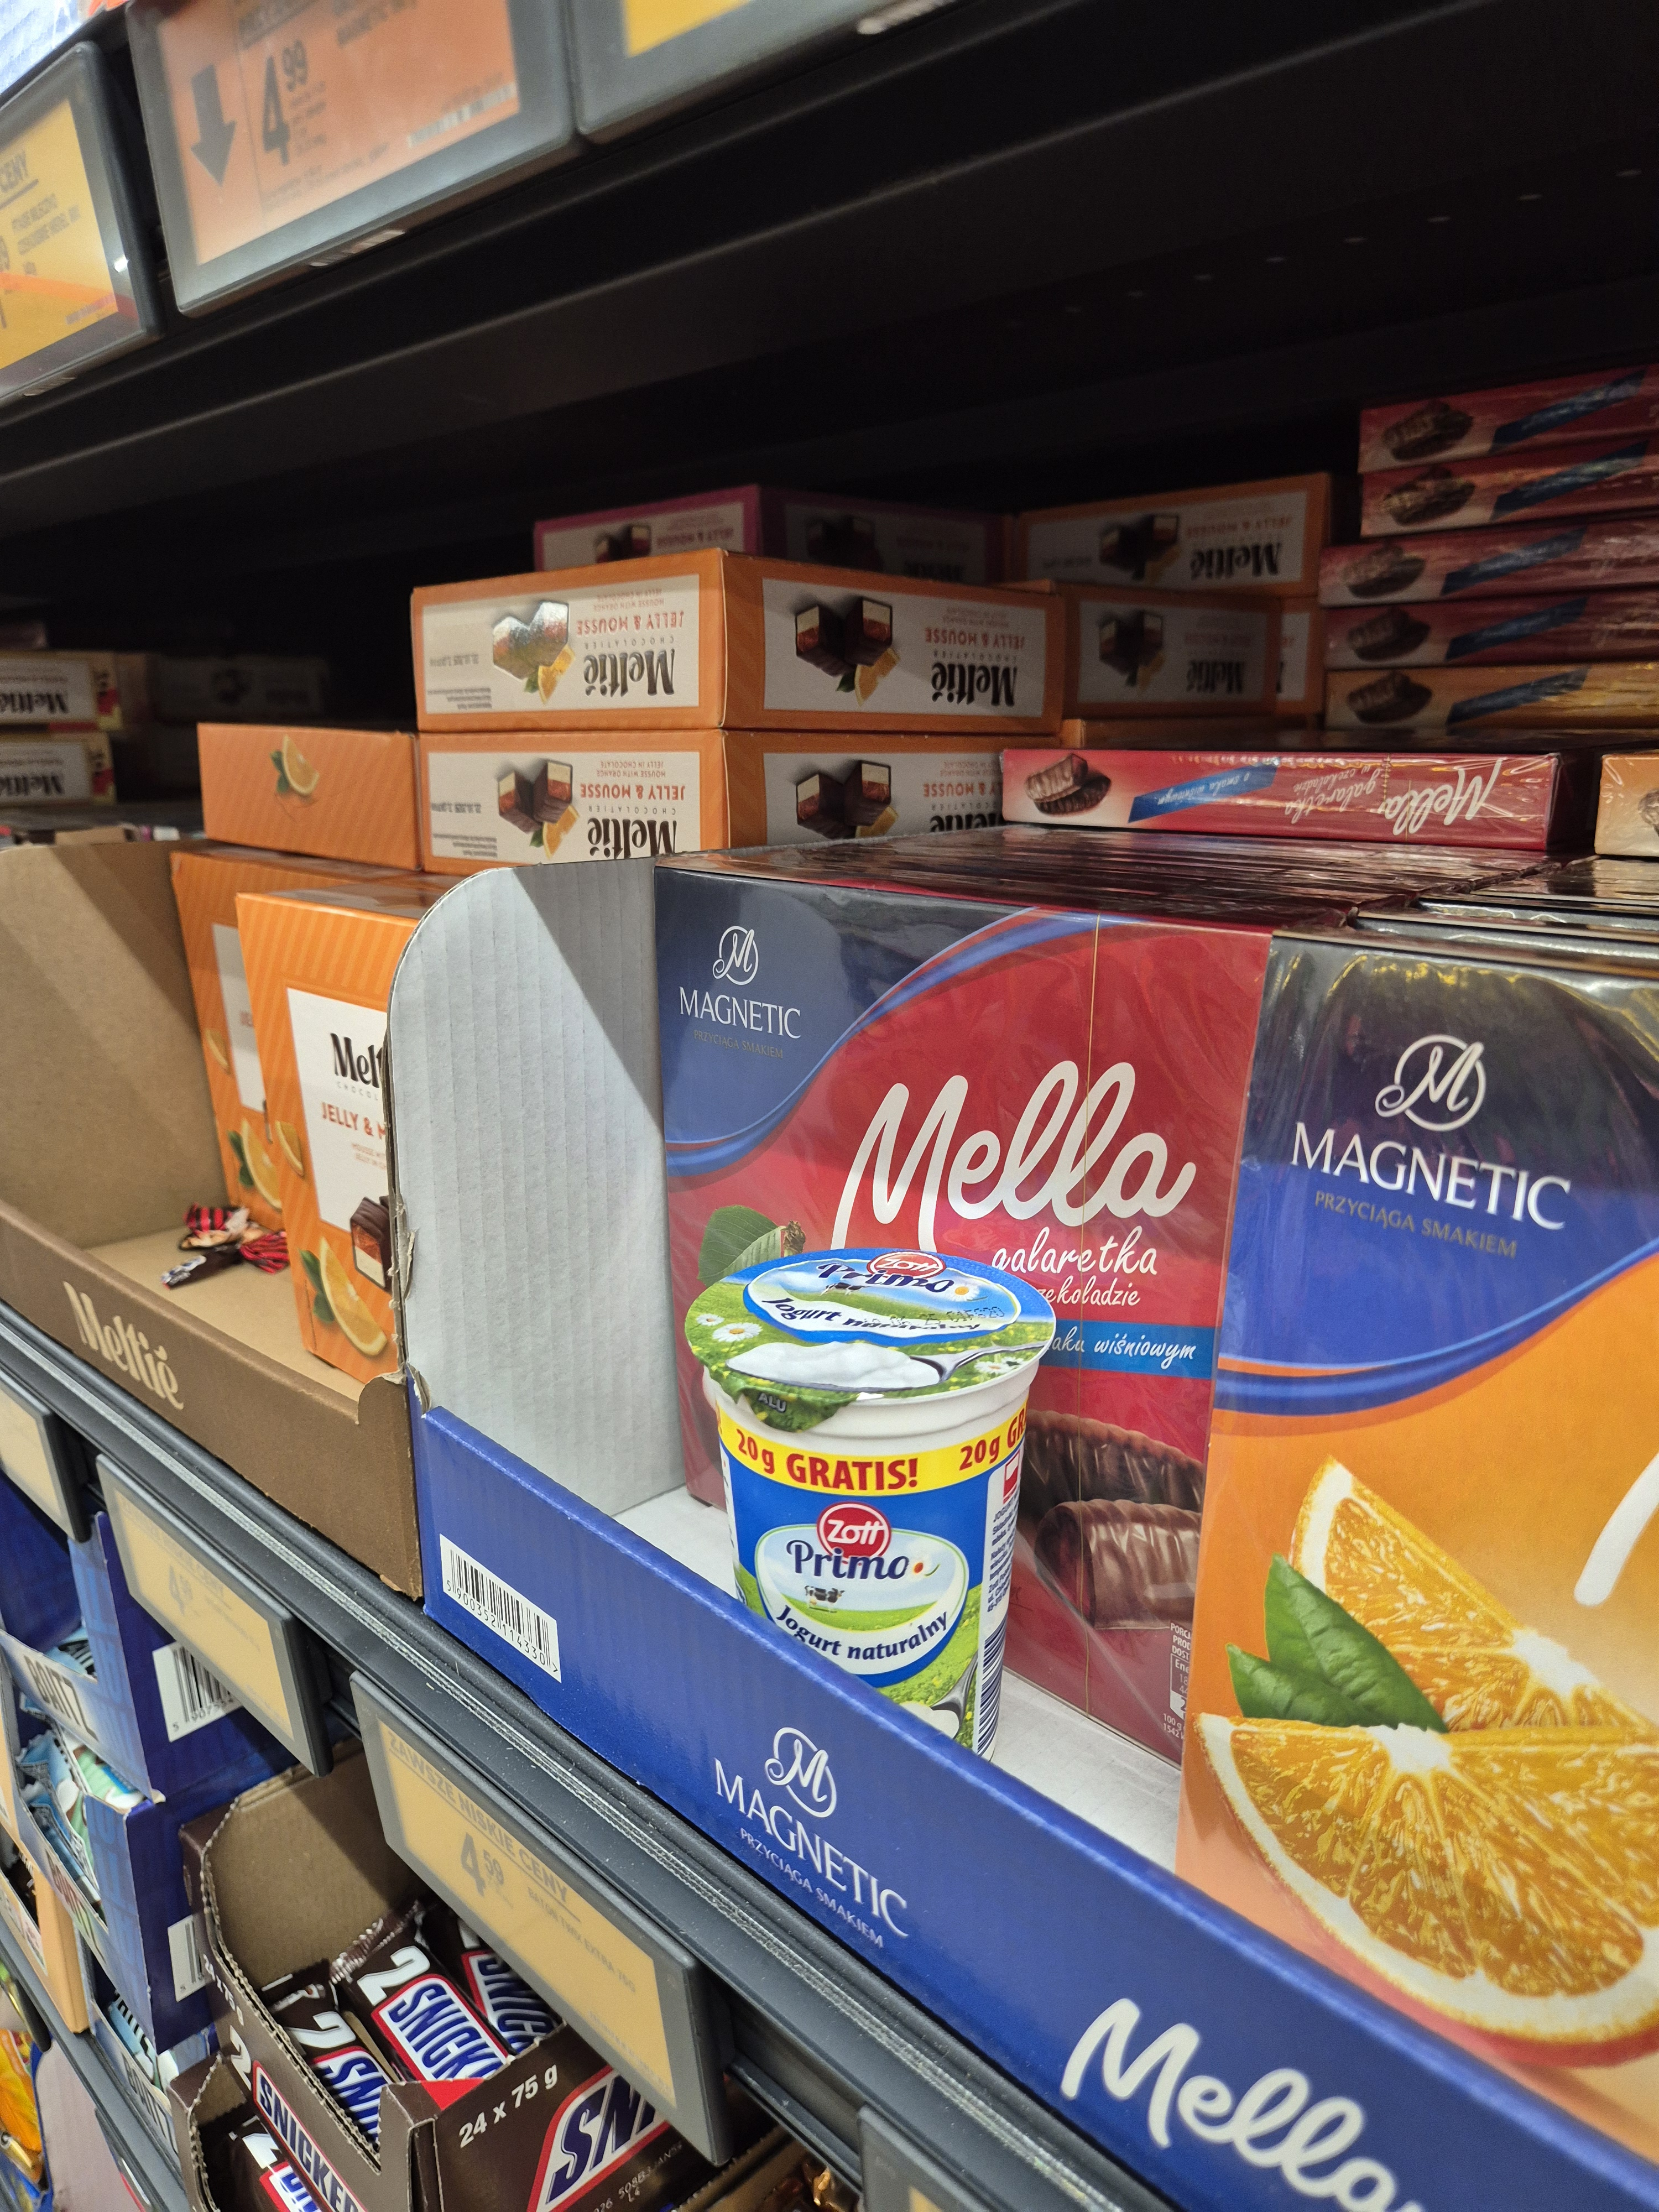Yogurt: (681, 1247, 1056, 1777)
